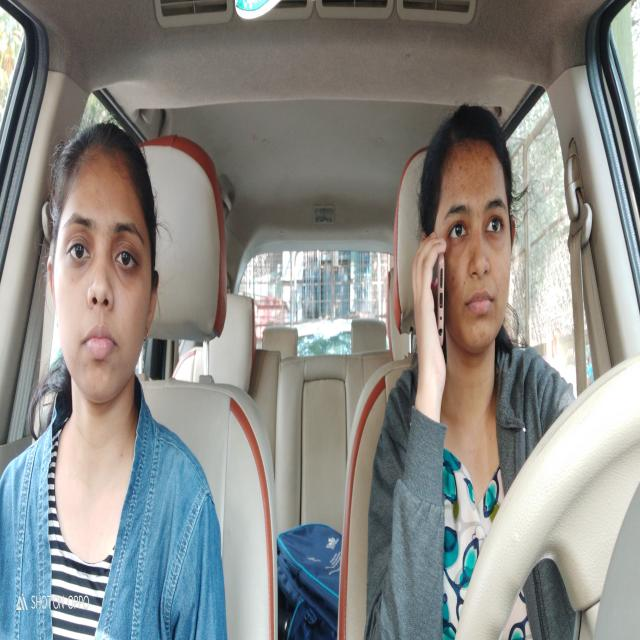mobile: (422, 211, 455, 356)
person: (41, 120, 163, 418), (416, 92, 523, 383)
